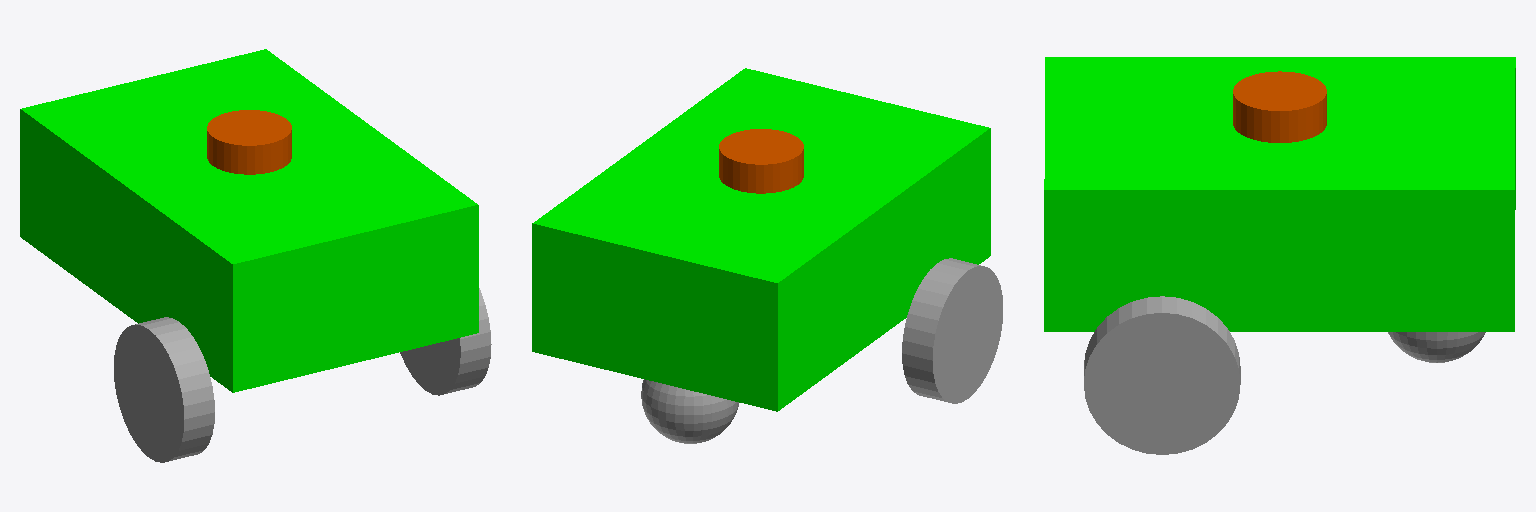
robot.urdf — three_wheel_robot:
<?xml version="1.0"?>
<robot name="three_wheel_robot">

    <material name="grey">
        <color rgba="0.7 0.7 0.7 1" />
    </material>

    <material name="green">
        <color rgba="0 1 0 1" />
    </material>

    <link name="base_footprint" />

    <link name="base_link">
        <visual>
            <geometry>
                <box size="0.6 0.4 0.2" />
            </geometry>
            <origin xyz="0 0 0.1" rpy="0 0 0" />
            <material name="green" />
        </visual>
        <collision>
            <origin xyz="0 0 0.1" rpy="0 0 0" />
            <geometry>
                <box size="0.6 0.4 0.2" />
            </geometry>
        </collision>
        <inertial>
            <origin xyz="0 0 0" rpy="0 0 0" />
            <mass value="3.0" />
            <inertia ixx="0.05" ixy="0.0" ixz="0.0"
                iyy="0.1" iyz="0.0"
                izz="0.1" />
        </inertial>
    </link>

    <link name="left_wheel">
        <visual>
            <geometry>
                <cylinder radius="0.1" length="0.05" />
            </geometry>
            <origin xyz="0 0 0" rpy="1.57 0 0" />
            <material name="grey" />
        </visual>
        <collision>
            <geometry>
                <cylinder radius="0.1" length="0.05" />
            </geometry>
            <origin xyz="0 0 0" rpy="1.57 0 0" />
        </collision>
        <inertial>
            <origin xyz="0 0 0" rpy="0 0 0" />
            <mass value="0.5" />
            <inertia ixx="0.0013542" ixy="0.0" ixz="0.0"
                iyy="0.0013542" iyz="0.0"
                izz="0.0025" />
        </inertial>
    </link>

    <link name="right_wheel">
        <visual>
            <geometry>
                <cylinder radius="0.1" length="0.05" />
            </geometry>
            <origin xyz="0 0 0" rpy="1.57 0 0" />
            <material name="grey" />
        </visual>
        <collision>
            <geometry>
                <cylinder radius="0.1" length="0.05" />
            </geometry>
            <origin xyz="0 0 0" rpy="1.57 0 0" />
        </collision>
        <inertial>
            <origin xyz="0 0 0" rpy="0 0 0" />
            <mass value="0.5" />
            <inertia ixx="0.0013542" ixy="0.0" ixz="0.0"
                iyy="0.0013542" iyz="0.0"
                izz="0.0025" />
        </inertial>
    </link>

    <link name="caster_wheel">
        <visual>
            <geometry>
                <sphere radius="0.07" />
            </geometry>
            <origin xyz="0 0 0" rpy="0 0 0" />
            <material name="grey" />
        </visual>
        <collision>
            <geometry>
                <sphere radius="0.07" />
            </geometry>
        </collision>
        <inertial>
            <origin xyz="0 0 0" rpy="0 0 0" />
            <mass value="0.03" />
            <inertia ixx="0.0000588" ixy="0.0" ixz="0.0"
                iyy="0.0000588" iyz="0.0"
                izz="0.0000588" />
        </inertial>
    </link>

    <link name="lidar_cylinder">
        <visual>
            <origin xyz="0.0 0.0 0.0" rpy="0.0 0.0 0.0" />
            <geometry>
                <cylinder radius="0.06" length="0.05" />
            </geometry>
        </visual>
        <collision>
            <origin xyz="0.0 0.0 0.0" rpy="0.0 0.0 0.0" />
            <geometry>
                <cylinder radius="0.06" length="0.05" />
            </geometry>
        </collision>
        <inertial>
            <origin xyz="0 0 0" rpy="0 0 0" />
            <mass value="0.1" />
            <inertia ixx="0.00011" ixy="0.0" ixz="0.0"
                iyy="0.00011" iyz="0.0"
                izz="0.00018" />
        </inertial>
    </link>

    <gazebo reference="caster_wheel">
        <material>Gazebo/Black</material>
        <mu1 value="0.001" />
        <mu2 value="0.001" />
    </gazebo>

    <joint name="base_joint" type="fixed">
        <parent link="base_footprint" />
        <child link="base_link" />
        <origin xyz="0.5 0.5 0.0" rpy="0 0 1.57" />
    </joint>


    <joint name="base_left_wheel_joint" type="continuous">
        <parent link="base_link" />
        <child link="left_wheel" />
        <origin xyz="-0.15 0.225 -0.05" rpy="0 0 0" />
        <axis xyz="0 1 0" />
    </joint>

    <joint name="base_right_wheel_joint" type="continuous">
        <parent link="base_link" />
        <child link="right_wheel" />
        <origin xyz="-0.15 -0.225 -0.05" rpy="0 0 0" />
        <axis xyz="0 1 0" />
    </joint>

    <joint name="base_caster_wheel_joint" type="fixed">
        <parent link="base_link" />
        <child link="caster_wheel" />
        <origin xyz="0.2 0 -0.06" rpy="0 0 0" />
    </joint>

    <joint name="lidar_joint" type="fixed">
        <origin xyz="0.0 0 0.22" rpy="0.0 0.0 0.0" />
        <parent link="base_link" />
        <child link="lidar_cylinder" />
        <axis xyz="0.0 0.0 0.0" />
    </joint>

    <!-- Gazebo Properties -->
    <gazebo>
        <plugin name="diff_drive_controller" filename="libgazebo_ros_diff_drive.so">
            <ros>
                <namespace></namespace>
            </ros>
            <left_joint>base_left_wheel_joint</left_joint>
            <right_joint>base_right_wheel_joint</right_joint>

            <wheel_separation>0.6</wheel_separation>
            <wheel_diameter>0.2</wheel_diameter>

            <max_wheel_torque>10</max_wheel_torque>
            <max_wheel_acceleration>7</max_wheel_acceleration>

            <odometry_frame>odom</odometry_frame>
            <robot_base_frame>base_link</robot_base_frame>
            <publish_odom>true</publish_odom>
            <publish_odom_tf>true</publish_odom_tf>
            <publish_wheel_tf>true</publish_wheel_tf>
            <cmd_vel_topic>cmd_vel</cmd_vel_topic>
        </plugin>
    </gazebo>


    <gazebo reference="lidar_cylinder">
        <material>Gazebo/Red</material>
        <sensor name="laser" type="ray">
            <pose> 0 0 0 0 0 0 </pose>
            <visualize>false</visualize>
            <update_rate>10</update_rate>
            <ray>
                <scan>
                    <horizontal>
                        <samples>360</samples>
                        <min_angle>-3.14</min_angle>
                        <max_angle>3.14</max_angle>
                    </horizontal>
                </scan>
                <range>
                    <min>0.3</min>
                    <max>12</max>
                </range>
            </ray>
            <plugin name="laser_controller" filename="libgazebo_ros_ray_sensor.so">
                <ros>
                    <argument>~/out:=scan</argument>
                </ros>
                <output_type>sensor_msgs/LaserScan</output_type>
                <frame_name>lidar_cylinder</frame_name>
            </plugin>
        </sensor>
    </gazebo>


</robot>

--- Facts derived from the render (not from the file) ---
Views: 3 orthographic renders of the robot side by side, from view 1: azimuth 30°, elevation 25°; view 2: azimuth 150°, elevation 25°; view 3: azimuth 270°, elevation 25°.
Model three_wheel_robot with 6 links and 5 joints (2 continuous, 3 fixed), rooted at base_footprint, posed every joint at zero.
Visible links, largest first — view 1: base_link, left_wheel, lidar_cylinder, right_wheel; view 2: base_link, left_wheel, lidar_cylinder, caster_wheel; view 3: base_link, right_wheel, lidar_cylinder, caster_wheel.
Boxes of the visible links, x1=… form: base_link: x1=20, y1=49, x2=478, y2=392; left_wheel: x1=114, y1=317, x2=214, y2=462; lidar_cylinder: x1=207, y1=110, x2=291, y2=174; right_wheel: x1=400, y1=288, x2=491, y2=395; base_link: x1=532, y1=68, x2=990, y2=411; left_wheel: x1=902, y1=258, x2=1002, y2=403; lidar_cylinder: x1=719, y1=129, x2=803, y2=193; caster_wheel: x1=641, y1=379, x2=738, y2=443; base_link: x1=1044, y1=57, x2=1515, y2=331; right_wheel: x1=1084, y1=296, x2=1240, y2=454; lidar_cylinder: x1=1233, y1=71, x2=1326, y2=142; caster_wheel: x1=1388, y1=332, x2=1485, y2=362.
Bounding box of the posed robot: 0.5002 × 0.6003 × 0.395 m (x, y, z).
Geometry: primitives only (box / cylinder / sphere), no mesh files.
